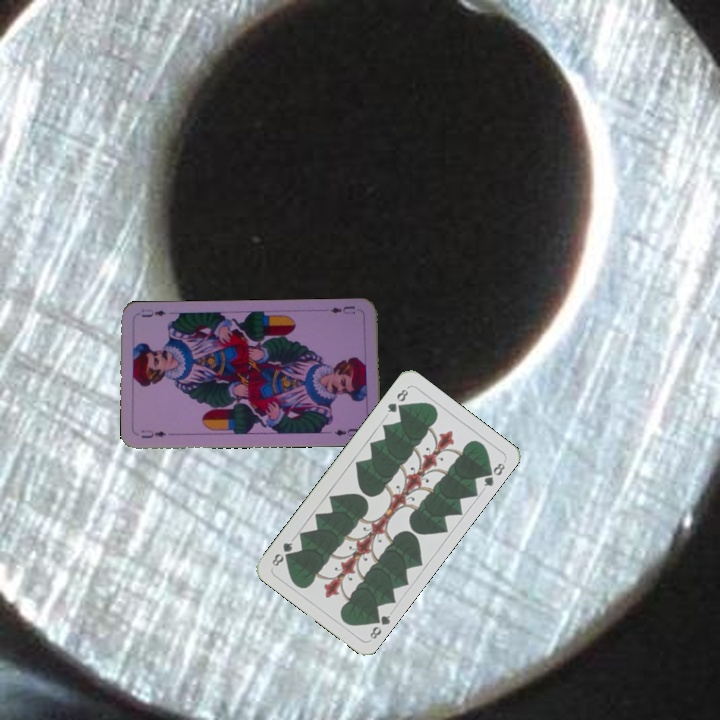EU: (327, 302, 358, 316), (137, 426, 168, 440)
G8: (366, 610, 393, 642), (383, 385, 411, 415)
